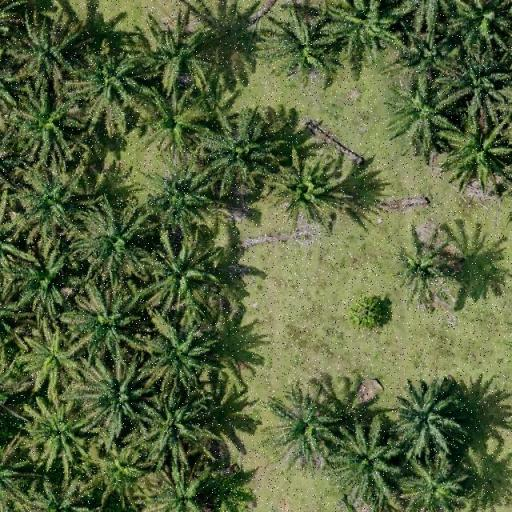Ganoderma: (397, 246, 446, 296), (29, 337, 73, 382), (280, 168, 324, 213)
